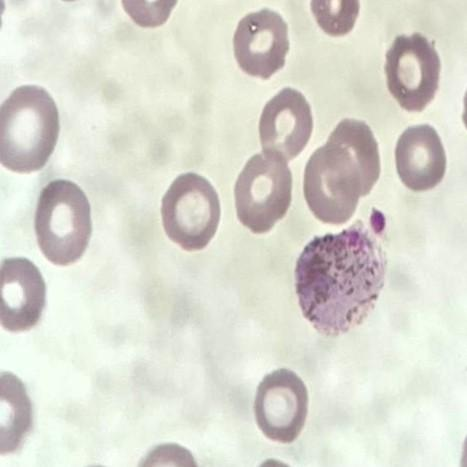Infected: (296, 227, 388, 336)
Uninfected: (0, 83, 61, 175), (34, 178, 95, 264), (232, 149, 293, 235), (156, 172, 219, 254), (384, 32, 442, 115), (301, 145, 360, 222), (326, 117, 381, 194), (231, 8, 288, 81), (256, 365, 310, 441), (258, 88, 312, 158), (0, 253, 45, 332), (394, 123, 447, 189)
